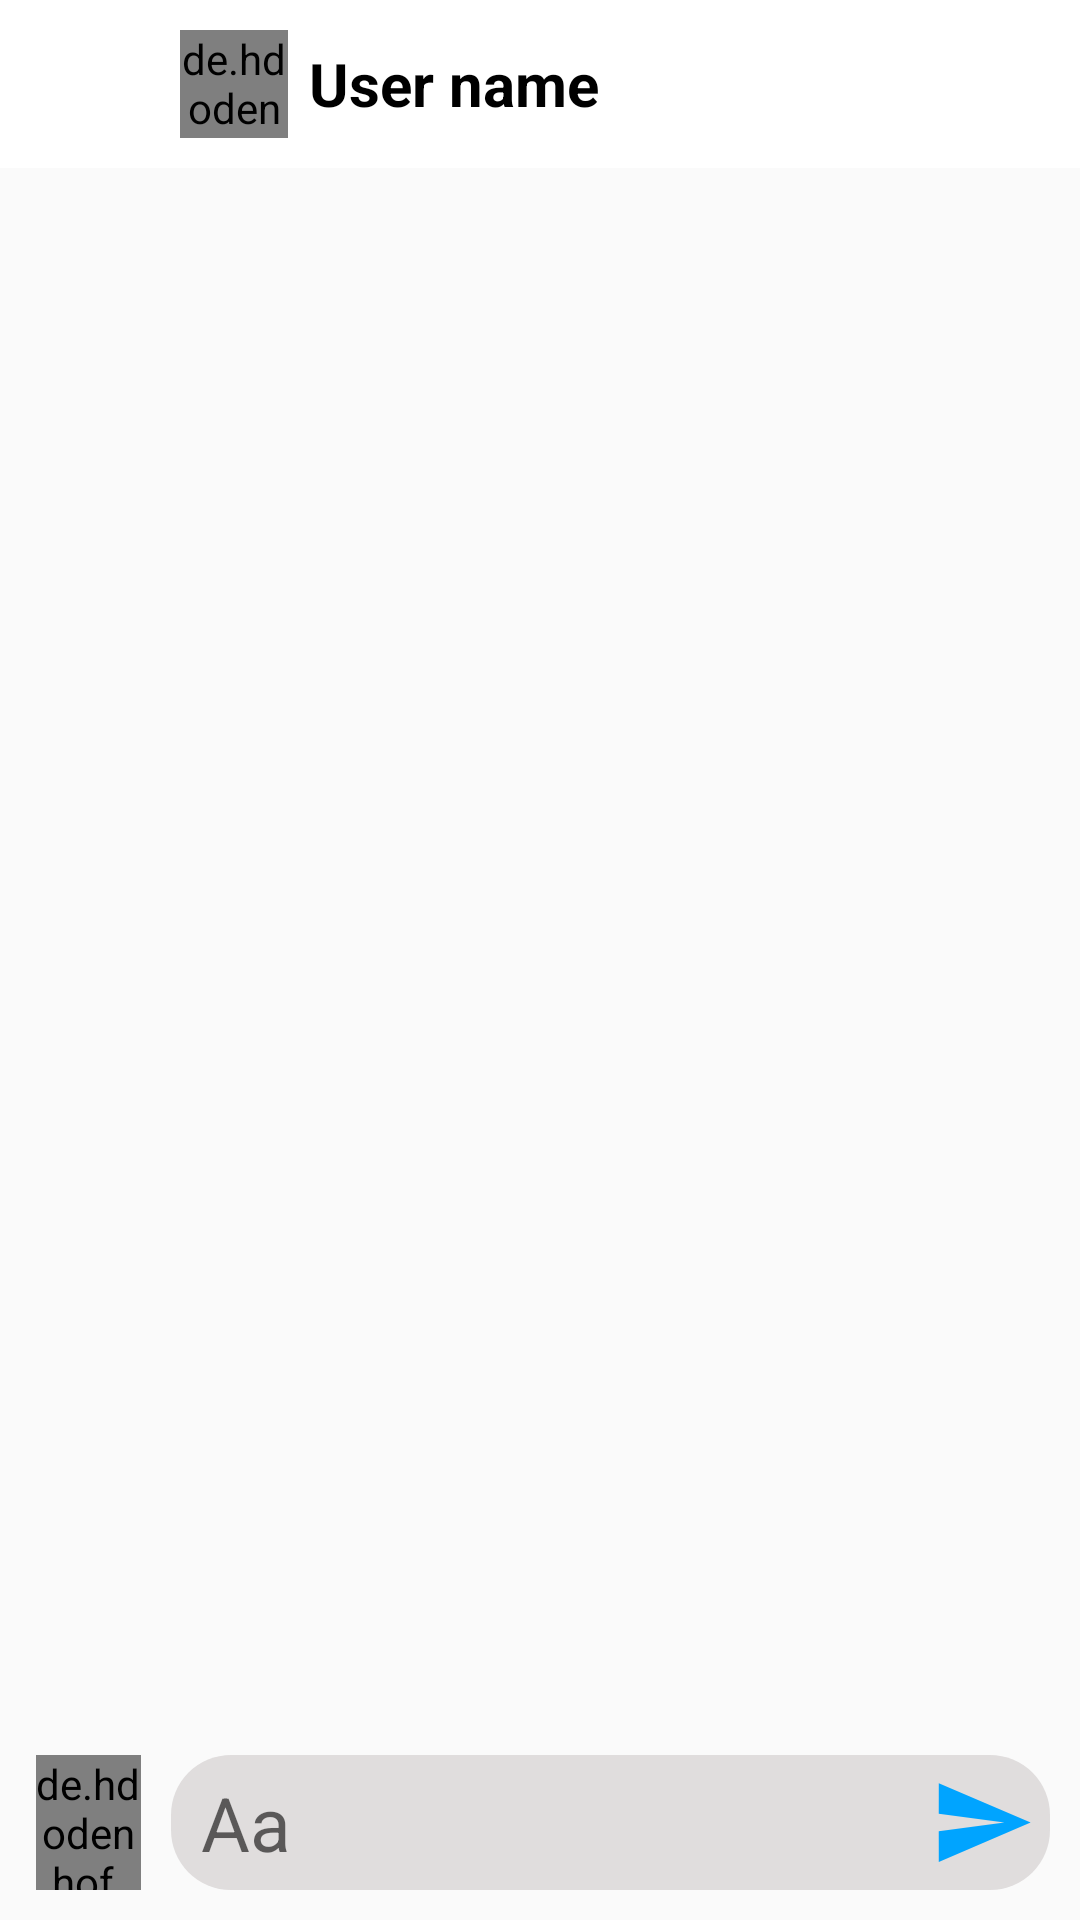

Where to tap for icons on this 1080w x 1920h app screen, as point (x, y):
send: point (982, 1822)
